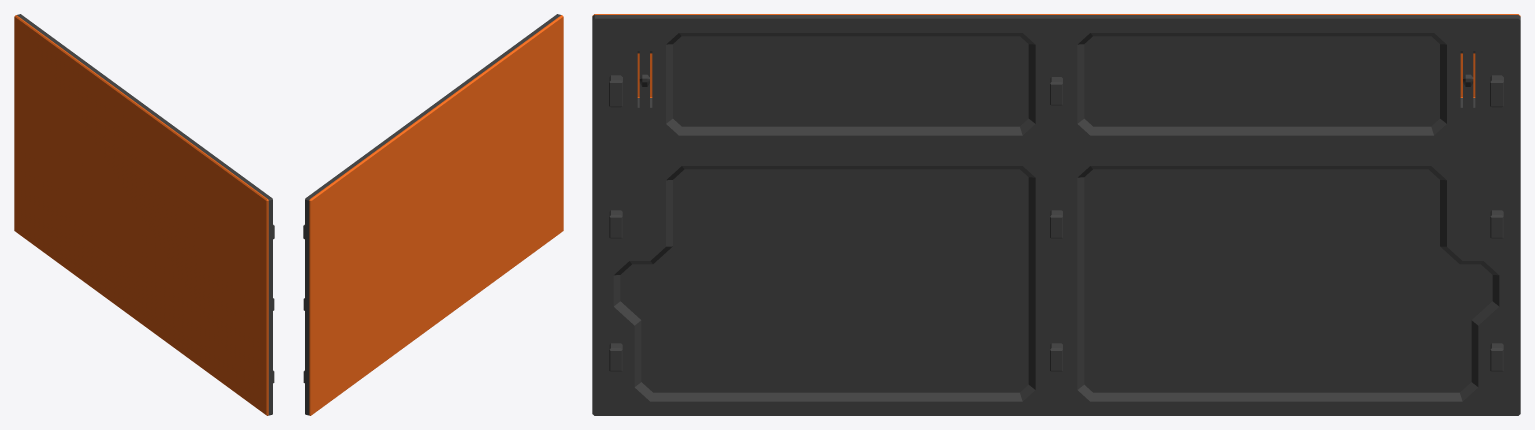
Rendered from SideCover_185-15H.lib.glb.
3 renders of one model, left to right at view 1: azimuth 30°, elevation 25°; view 2: azimuth 150°, elevation 25°; view 3: azimuth 270°, elevation 25°, orthographic. The views are drawn at different scales.
Parts seen in each view (by area): view 1: SideCover_185-15H; view 2: SideCover_185-15H; view 3: SideCover_185-15H.
Boxes of the visible parts, bbox=[...] form: SideCover_185-15H: bbox=[14, 14, 274, 415]; SideCover_185-15H: bbox=[303, 14, 563, 415]; SideCover_185-15H: bbox=[592, 14, 1520, 415].
Size of the model in its own units: 5.06 by 83.6 by 177.
